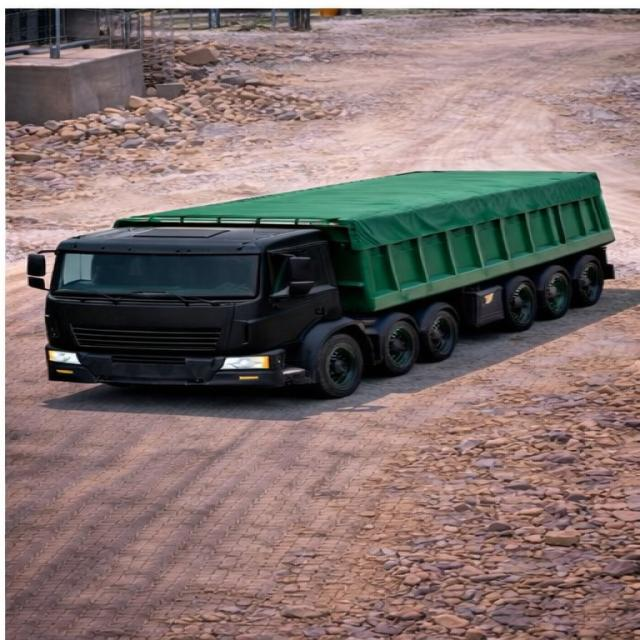Box: (128, 168, 591, 228)
Truck: (28, 156, 620, 400)
